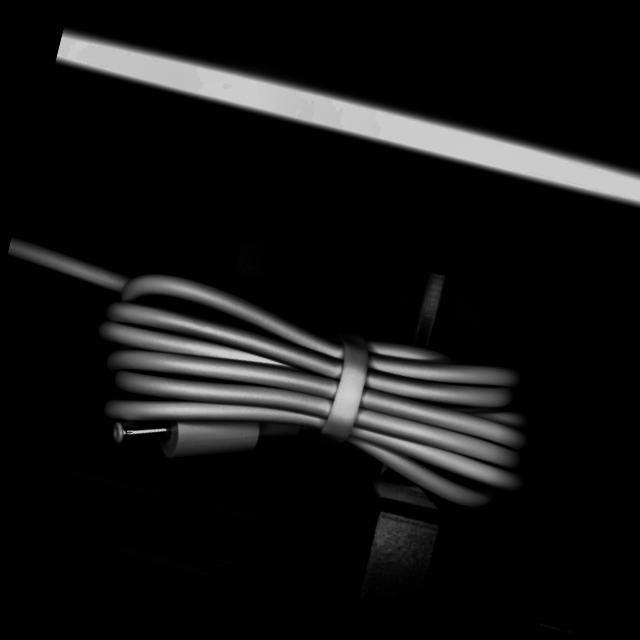Cable: (0, 227, 558, 547)
